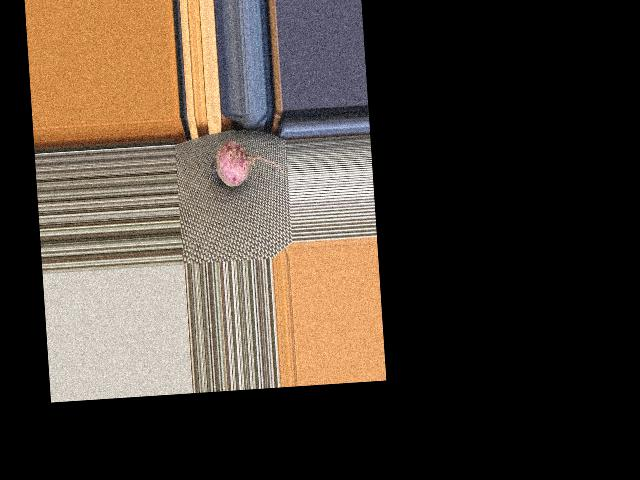beet: (208, 137, 282, 187)
